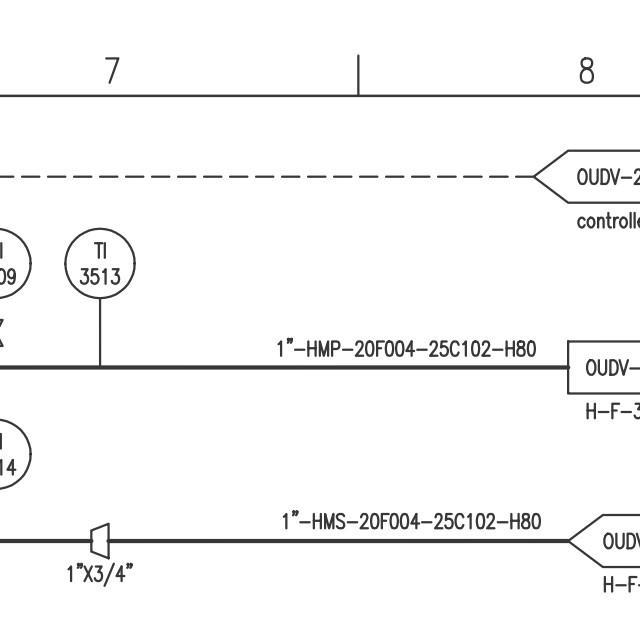SP: (85, 519, 115, 564)
